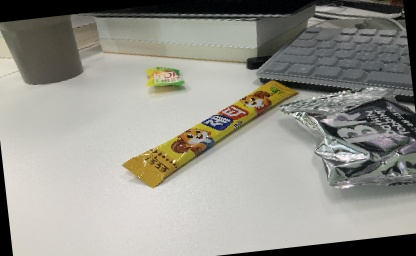br: (275, 77, 416, 209)
jeli: (144, 59, 187, 95)
jt: (113, 75, 310, 192)
